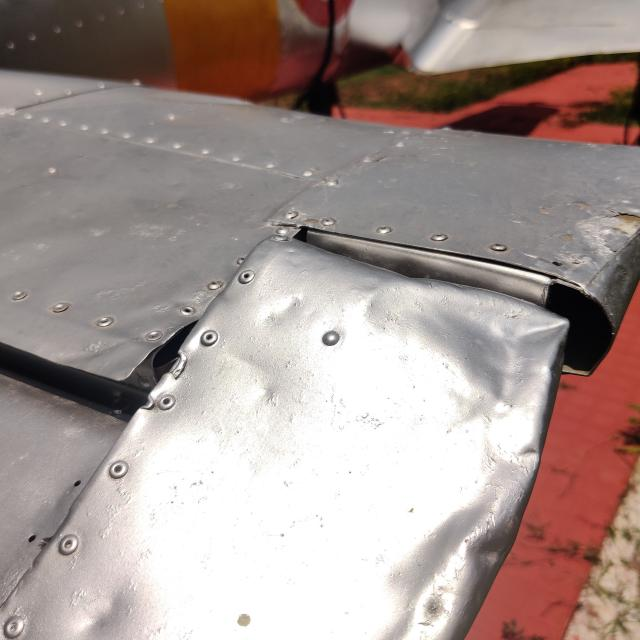dent: (361, 471, 531, 640), (418, 281, 589, 446), (64, 557, 151, 640)
